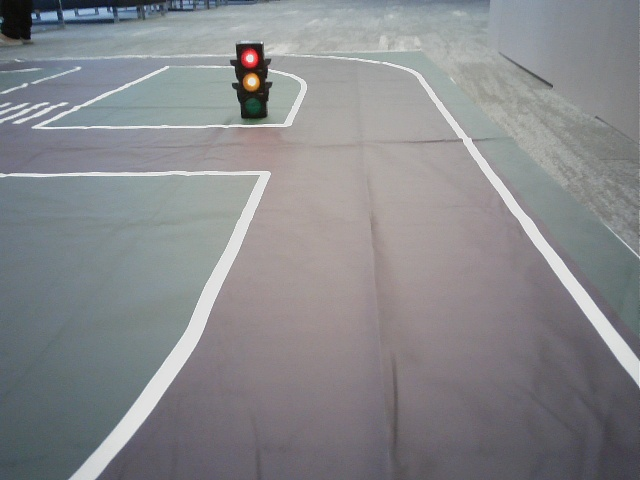red: (235, 44, 268, 115)
